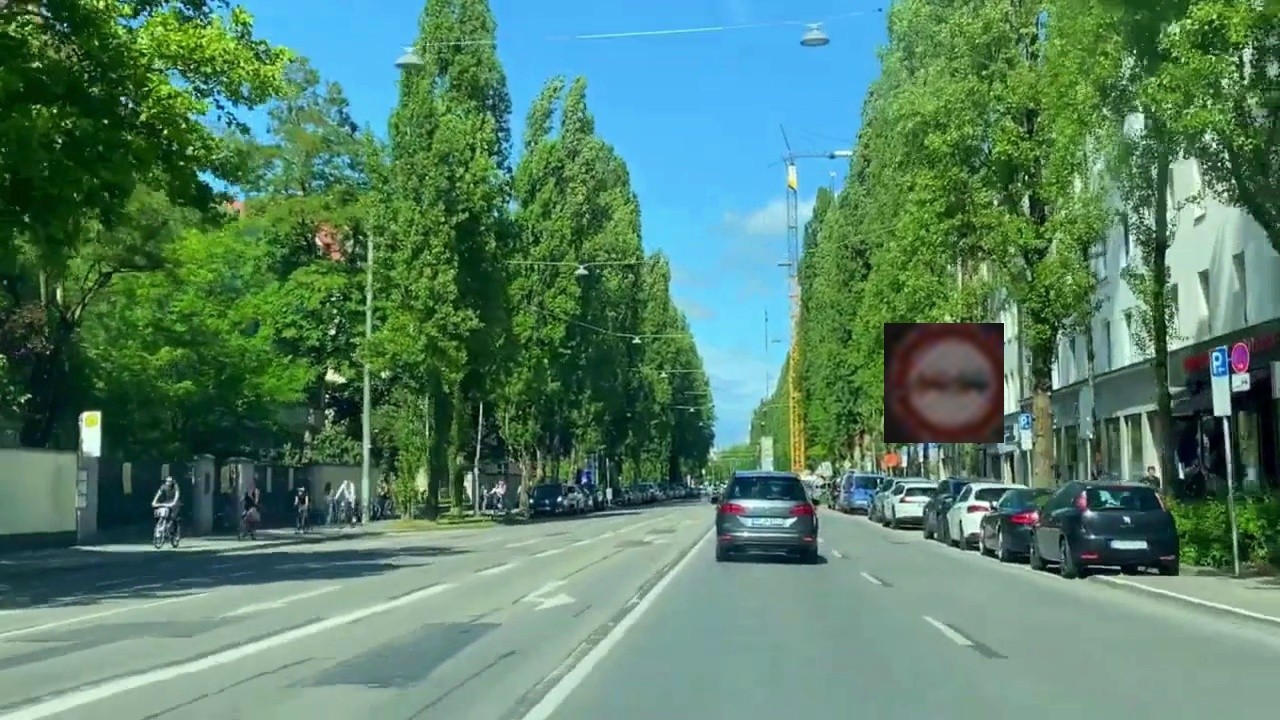No passing: (884, 323, 1004, 443)
